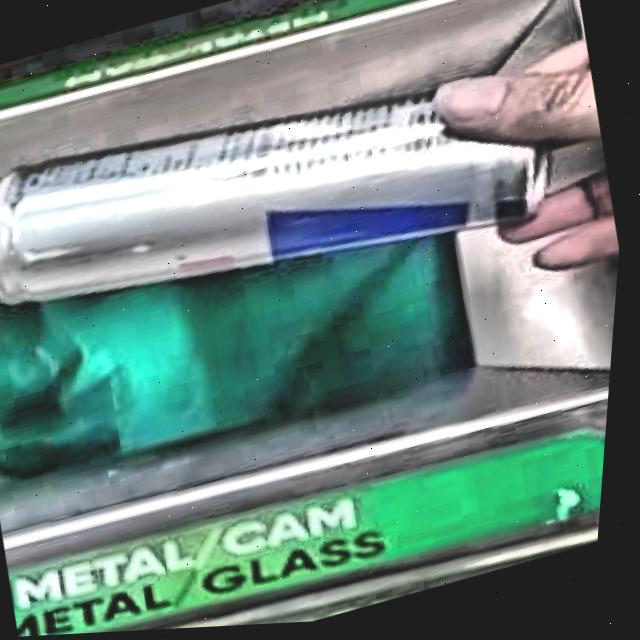metal: (0, 94, 549, 305)
